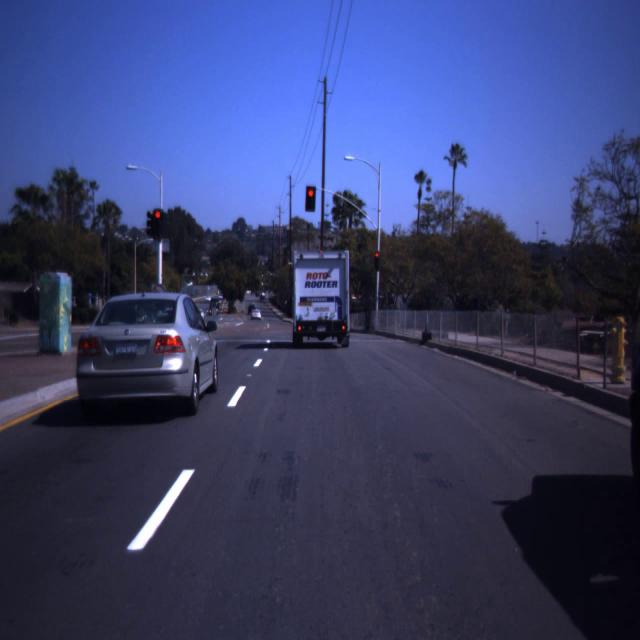kirmizi: (306, 186, 316, 211), (154, 209, 161, 231), (375, 252, 379, 268)
